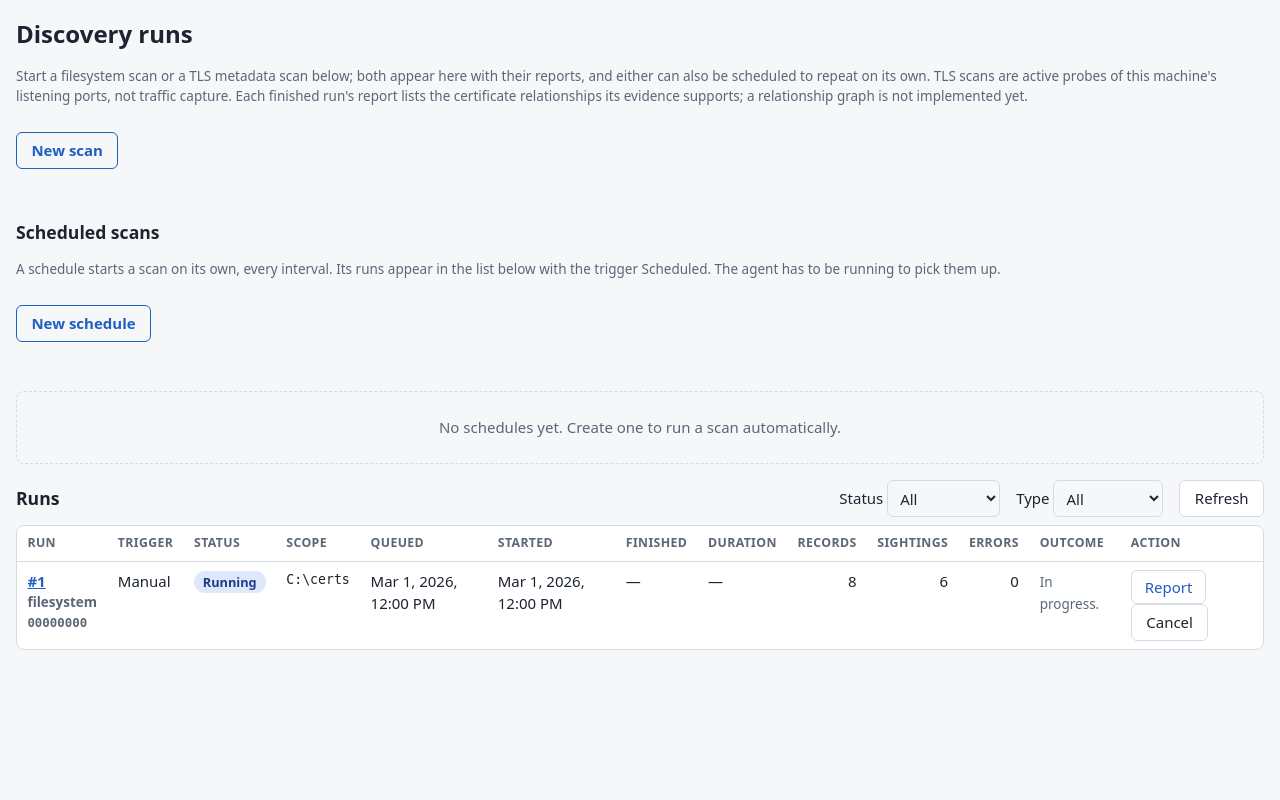
Test: cancelling › marks a running run as cancelling and drops the button
Check: the table is shown, box [17, 526, 1263, 649]
Click the button with aria-label "Cancel run 1" at (1170,622), box [1131, 604, 1208, 641]
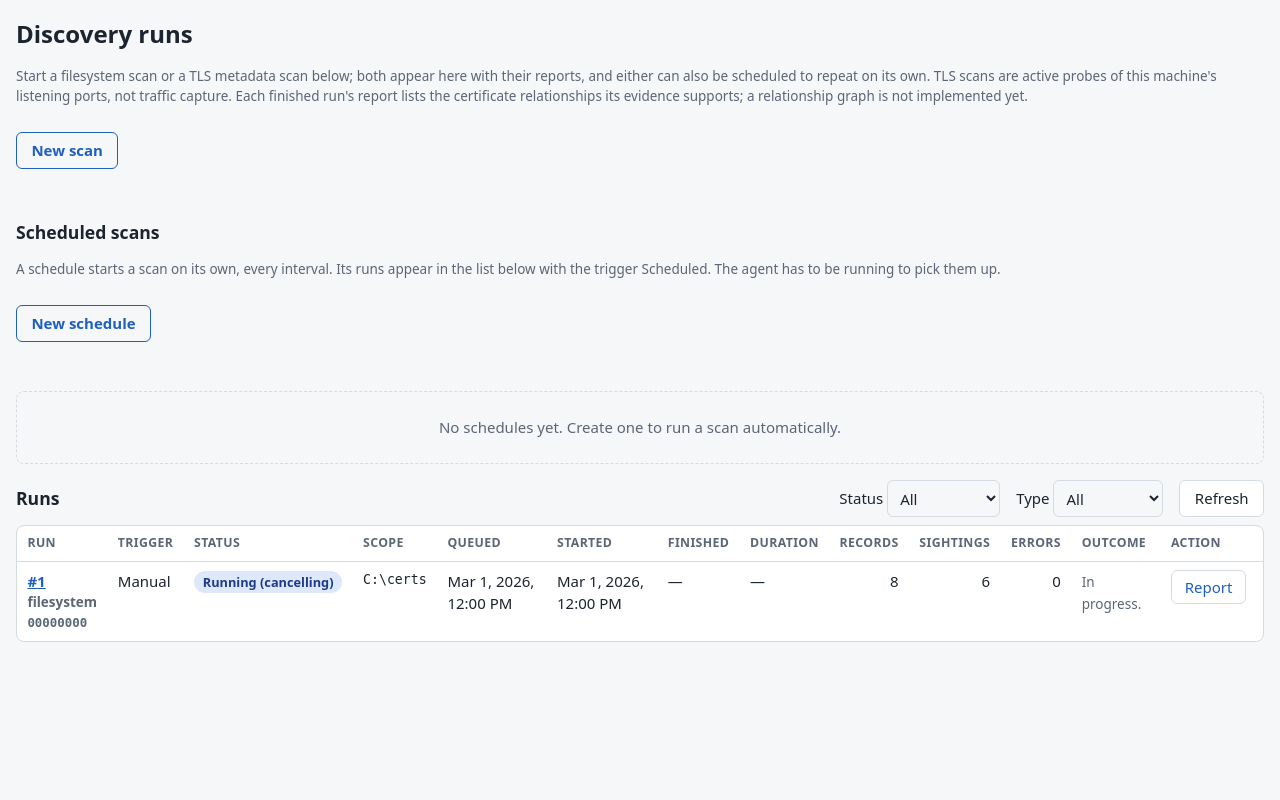
Check: the text "Running (cancelling)" is shown, box [194, 571, 342, 593]
